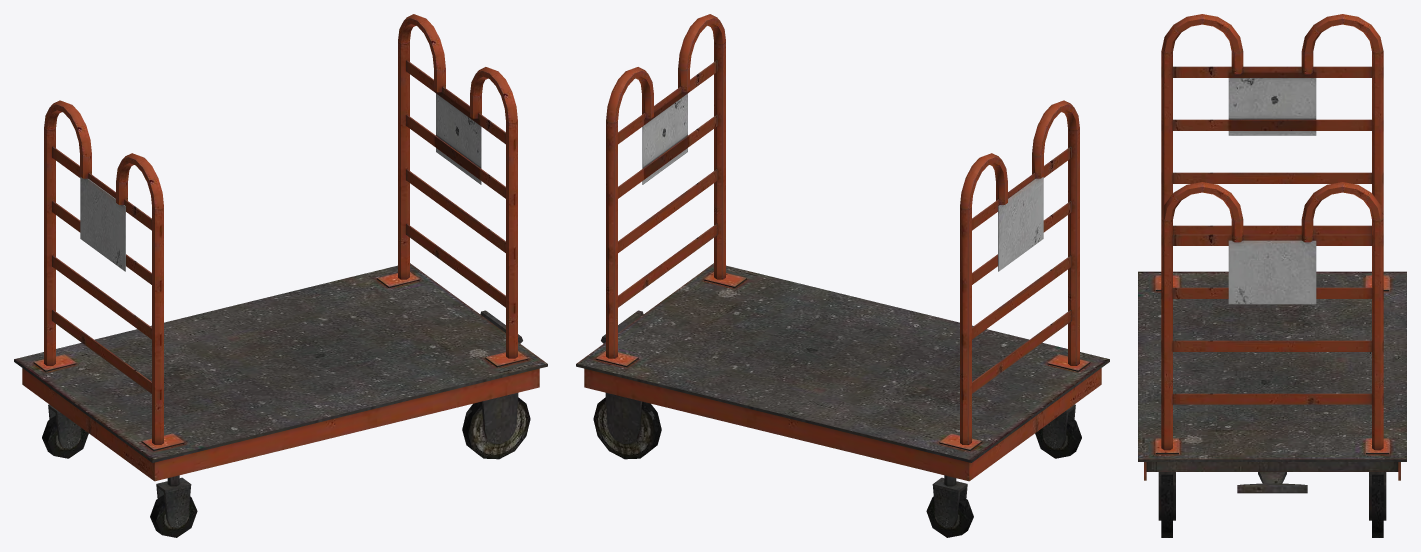
Rendered from pushcart01a.glb.
3 views of the same model, side by side, from view 1: azimuth 30°, elevation 25°; view 2: azimuth 150°, elevation 25°; view 3: azimuth 270°, elevation 25° (orthographic). The views are drawn at different scales.
Visible parts, largest first — view 1: 0_pushcart01a; view 2: 0_pushcart01a; view 3: 0_pushcart01a.
Boxes of the visible parts, <box> form: 0_pushcart01a: <box>14,14,547,537</box>; 0_pushcart01a: <box>576,14,1109,537</box>; 0_pushcart01a: <box>1138,14,1406,537</box>.
Bounding box in the file's own units: 2.06 × 1.73 × 1.17.
1 material, 1 textured.
